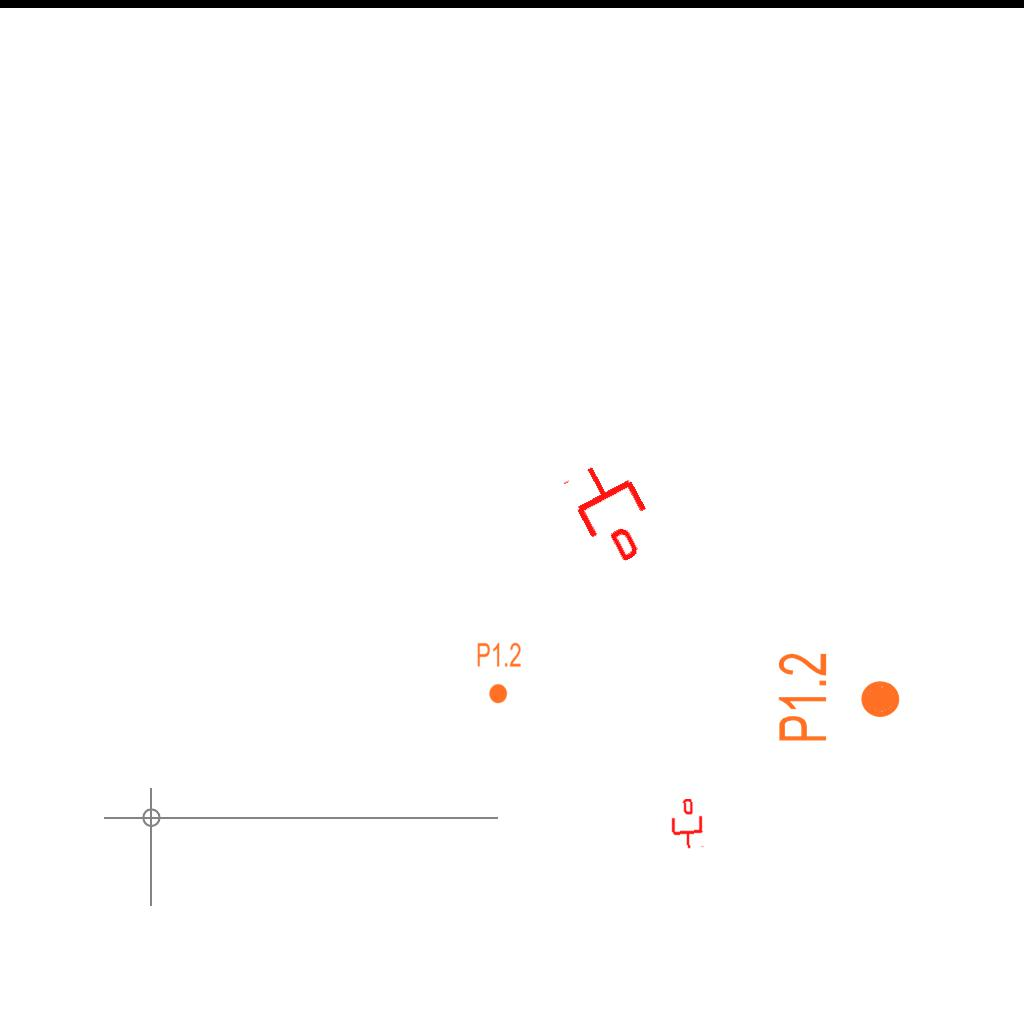Datenanschluss_einfach: (558, 450, 667, 572), (668, 797, 706, 851)
Downlight_LED_Einbauleuchten_Flur: (775, 651, 903, 744), (476, 641, 522, 705)
